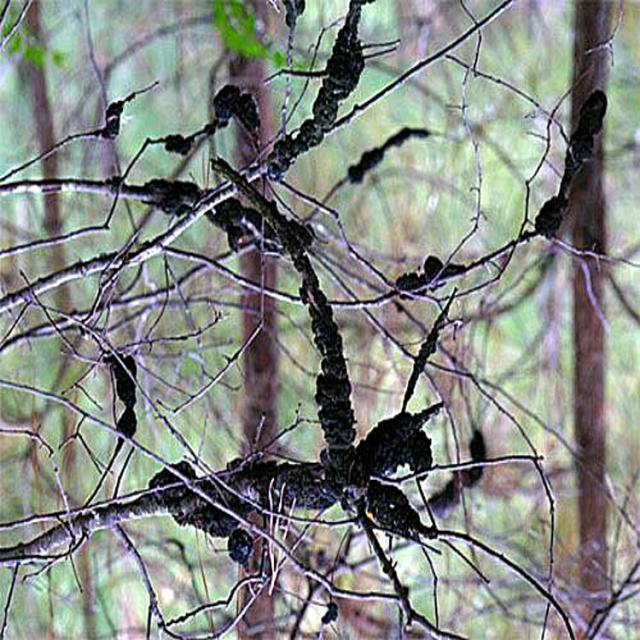Black_knot: (226, 525, 254, 564)
